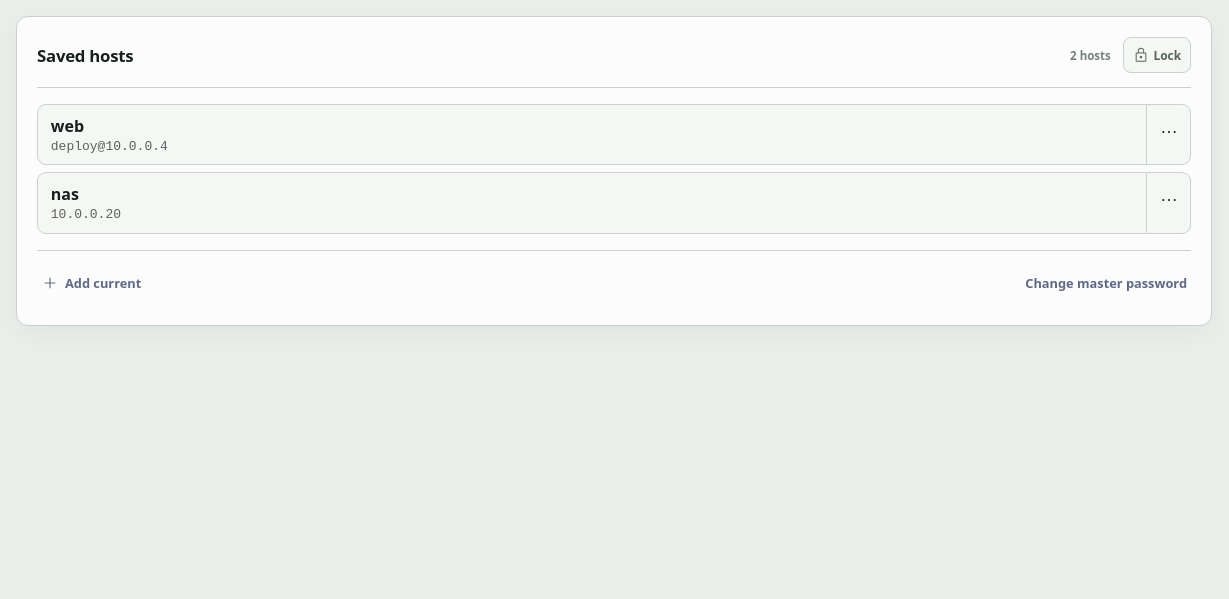
Scenario: SavedHosts › opens the editor pre-filled from the connect form
Click the button "Add current".
click(91, 283)  # box [37,261,145,305]
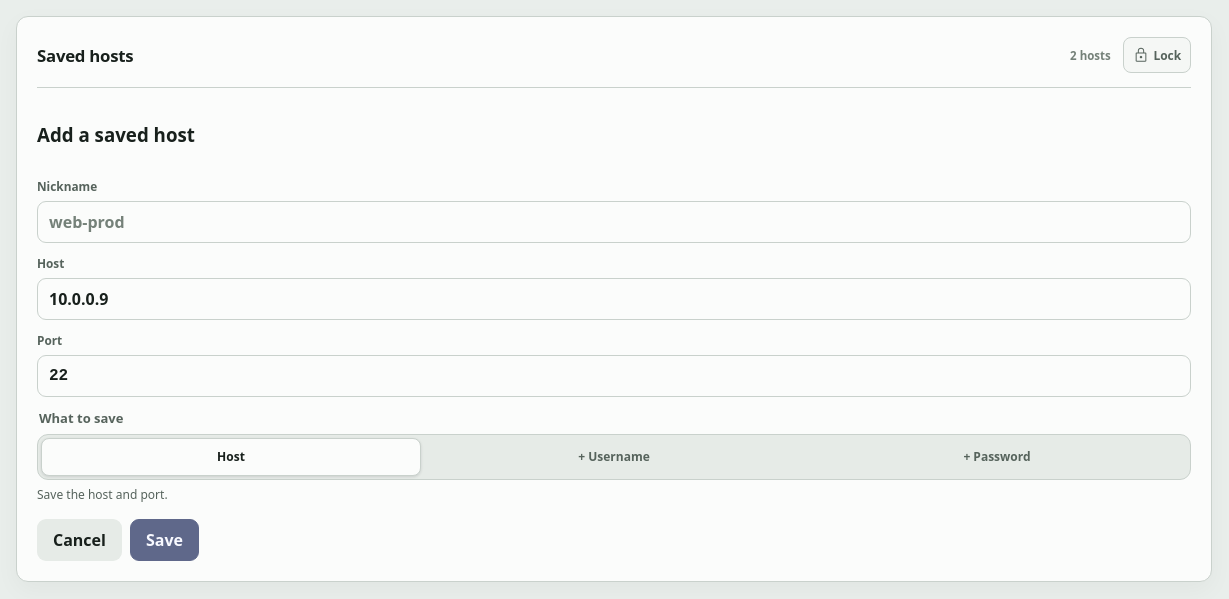
Expected: the field labelled "Host" holds "10.0.0.9", [37,278,1191,320]
